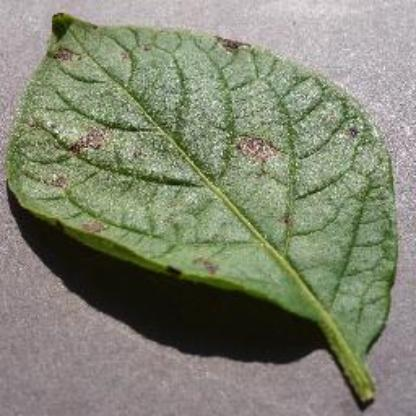Early-Blight: (8, 12, 396, 402)
